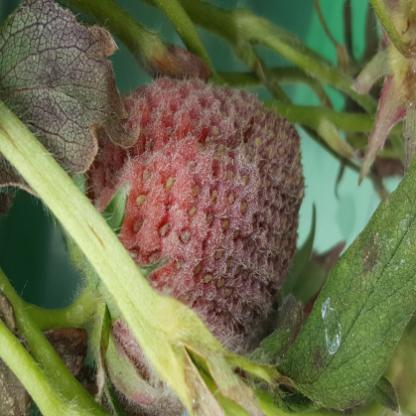Strawberry_Powdery_Mildew_Fruit: (86, 77, 308, 415)
